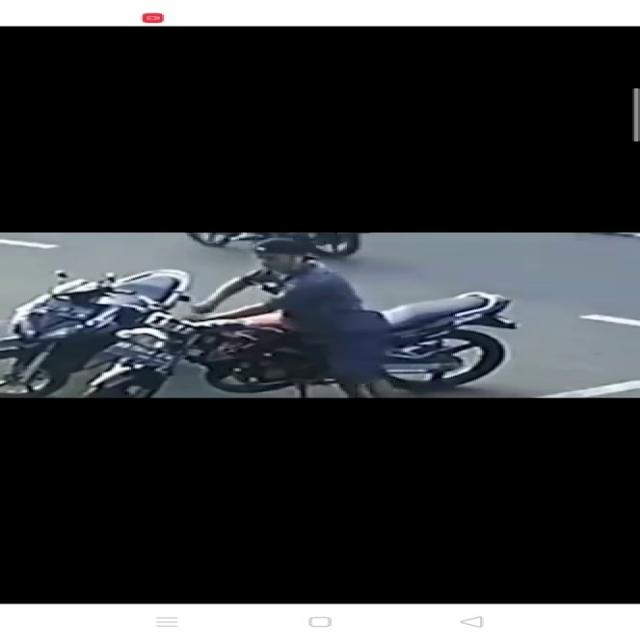pencurian: (92, 238, 388, 396)
